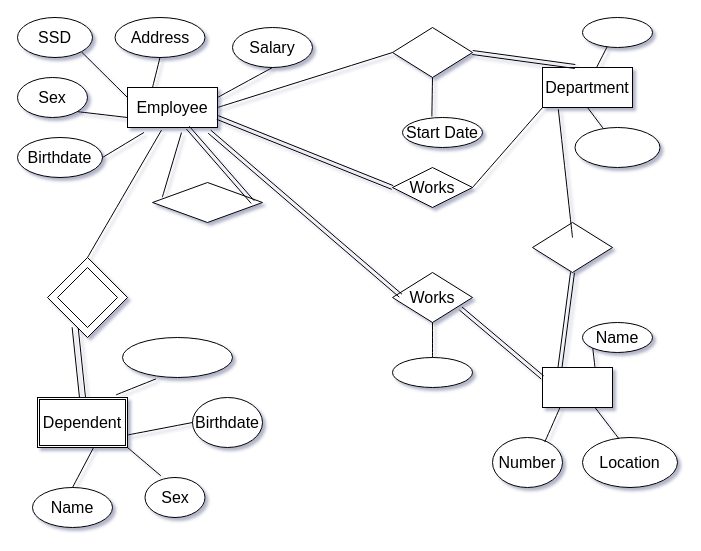
Image size: 701x551. Some labels were removed from this diagram. Each missing label, with the centre of its shape:
"Controls" belongs at (x=572, y=247).
"Dname" belongs at (x=617, y=147).
"Dnumber" belongs at (x=617, y=32).
"Has" belongs at (x=87, y=297).
"Hours" belongs at (x=432, y=372).
"Manages" belongs at (x=432, y=52).
"Project" belongs at (x=577, y=387).
"Relationship" belongs at (x=177, y=357).
"Supervises" belongs at (x=207, y=202).
